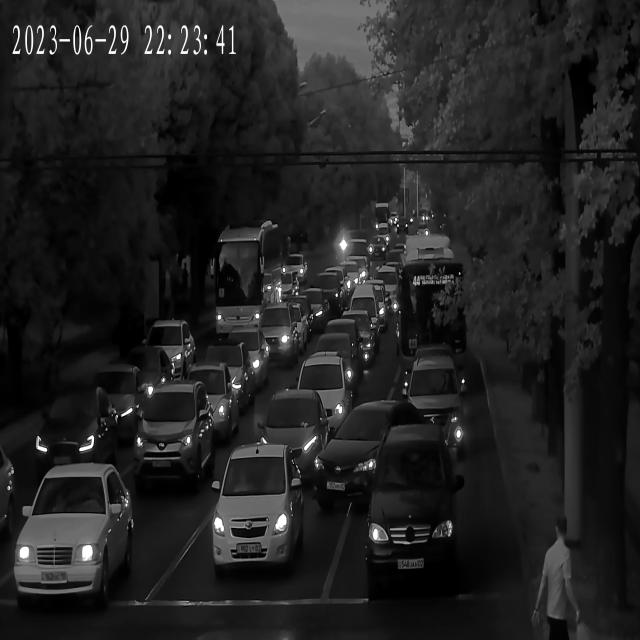Bus: (394, 234, 469, 378), (217, 227, 282, 324), (375, 202, 391, 232)
Car: (352, 426, 465, 579), (15, 464, 131, 603), (309, 401, 435, 505), (210, 442, 304, 576), (124, 382, 216, 491), (389, 354, 468, 466), (34, 396, 124, 469), (167, 364, 240, 444), (81, 365, 156, 435), (264, 394, 327, 474), (293, 356, 351, 436), (137, 322, 196, 387), (226, 322, 275, 394), (205, 342, 253, 411), (318, 341, 362, 403), (258, 306, 298, 368), (335, 315, 375, 366), (275, 298, 311, 353), (351, 291, 382, 340), (309, 270, 351, 306), (298, 284, 329, 330), (373, 264, 399, 315), (343, 240, 371, 284), (362, 282, 387, 329), (277, 258, 309, 287), (344, 256, 368, 286), (338, 265, 361, 294), (368, 237, 387, 261), (377, 223, 390, 244), (394, 218, 408, 235), (417, 223, 428, 239)
